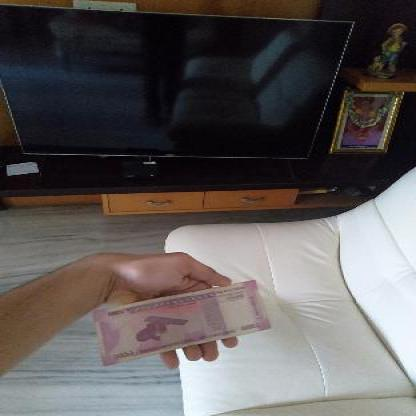New2000Back: (88, 280, 268, 356)
